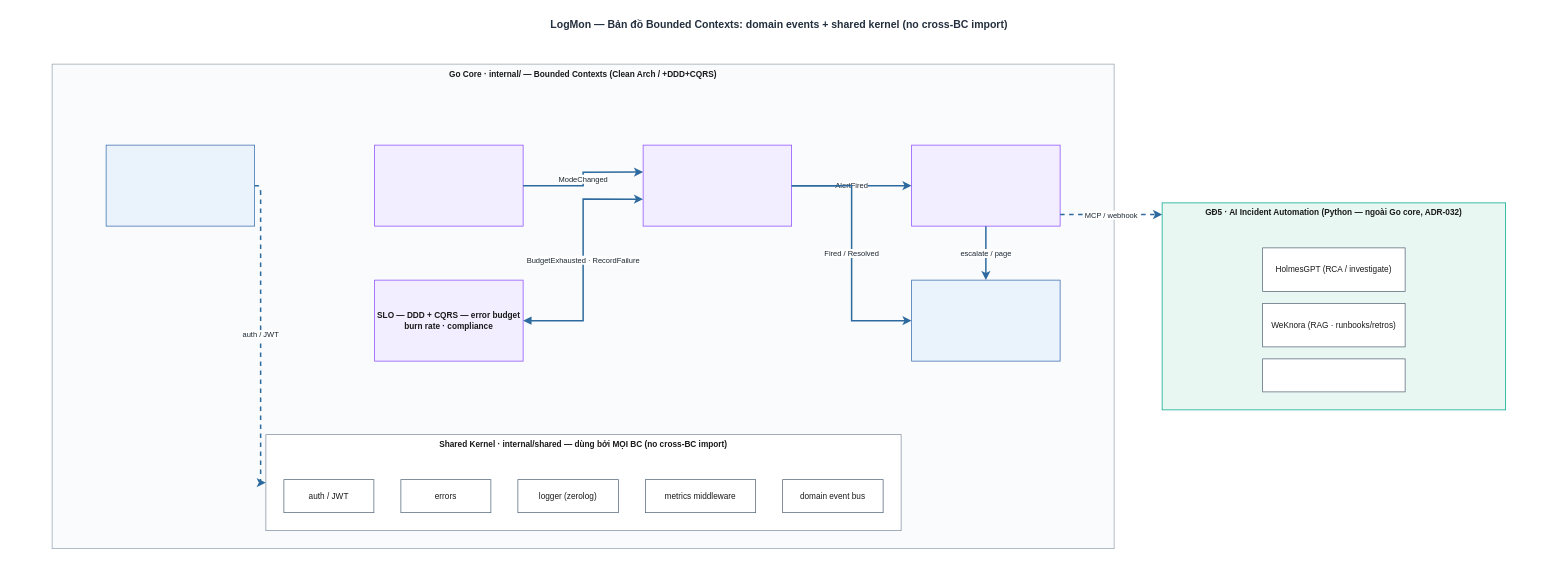
The diagram is 1557 pixels wide and 570 high, and some of its shapes have lost their labels. Each missing label, with the box of its shape:
ALERTING · hub — DDD + CQRS — threshold · inhibition routing · escalation: (642, 144, 792, 226)
human-in-loop (L2): (1262, 358, 1405, 392)
IDENTITY — Clean Arch — auth · users · workspaces RBAC / policy: (105, 144, 255, 226)
INCIDENT — DDD + CQRS — state machine (7) · SEV1–4 MTTA/MTTR · on-call: (911, 144, 1060, 226)
LOGPIPELINE — DDD + CQRS — mode A/B · DLQ ILM policy: (374, 144, 523, 226)
NOTIFICATION — Clean Arch — Slack · Email · PagerDuty template · retry / queue: (911, 279, 1060, 361)
